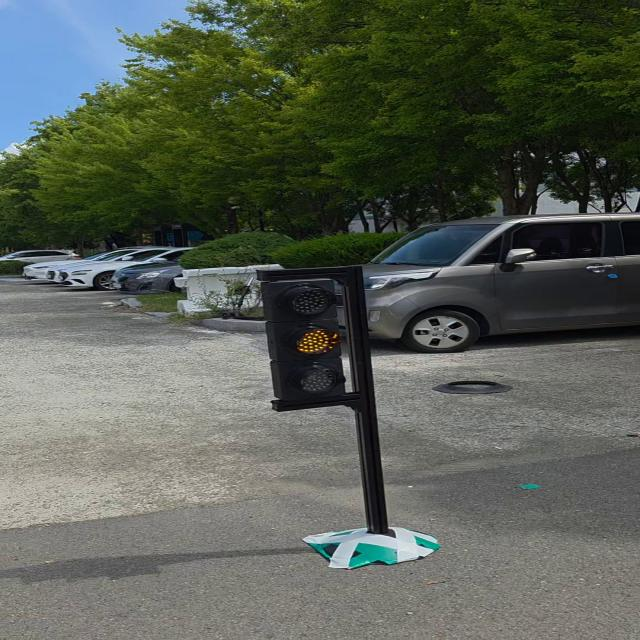yellow: (254, 268, 356, 408)
